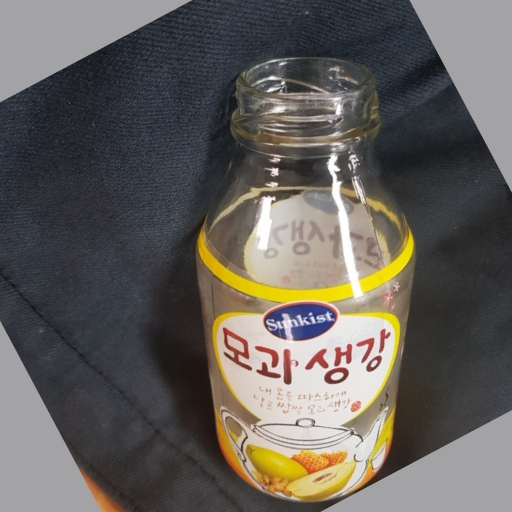Glass_4: (194, 57, 416, 503)
